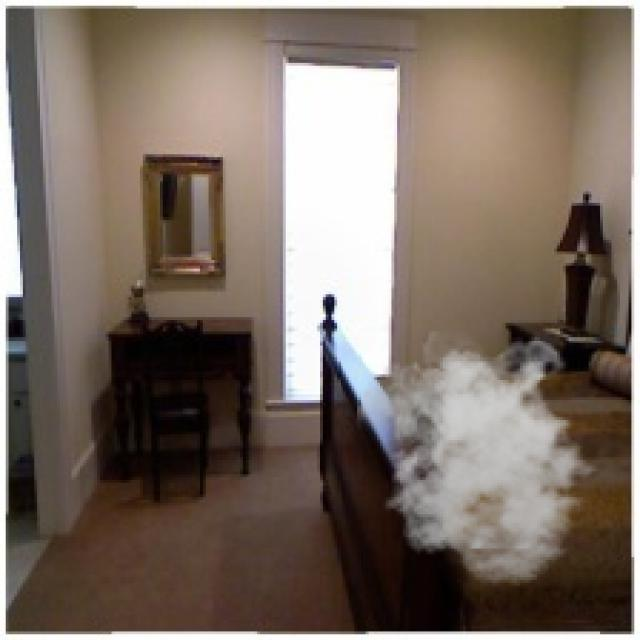smoke: (357, 331, 609, 586)
